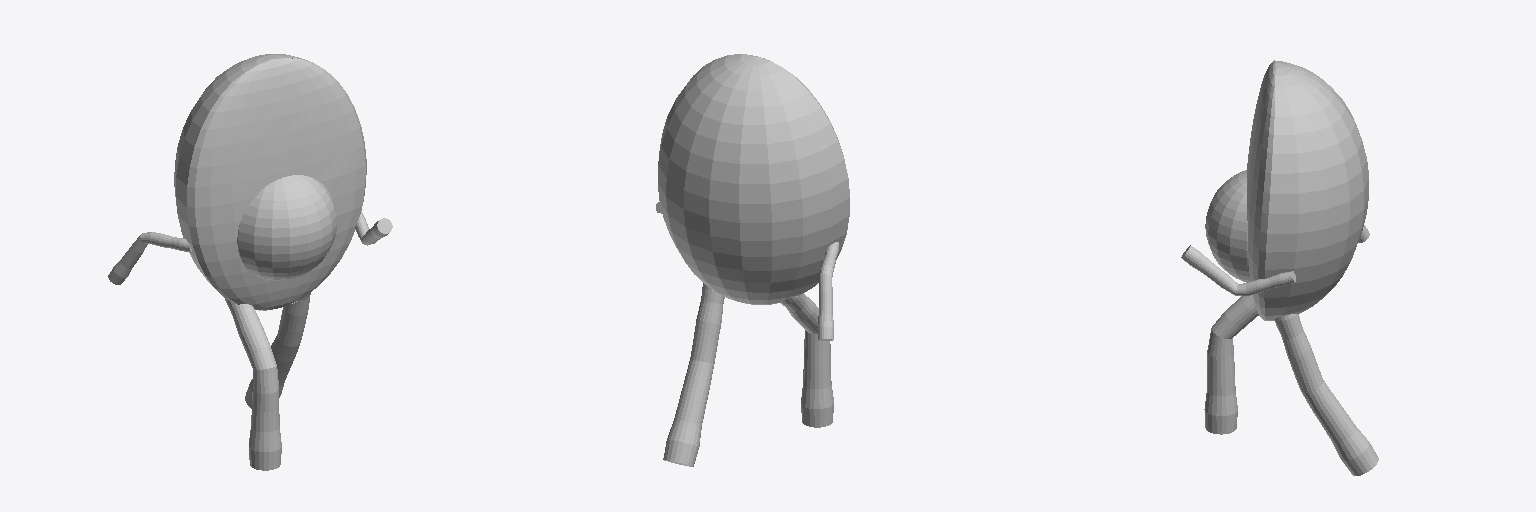
Rendered from Rigged Egg.obj.
The picture shows the model from 3 angles: view 1: azimuth 30°, elevation 25°; view 2: azimuth 150°, elevation 25°; view 3: azimuth 270°, elevation 25°; orthographic projection.
Parts seen in each view (by area): view 1: pSphere4; view 2: pSphere4; view 3: pSphere4.
Part boxes in pixels (x1,y1,x2,y2): pSphere4: (108,54,392,470); pSphere4: (656,54,849,466); pSphere4: (1181,60,1378,475).
Size of the model in its own units: 2.35 by 4.13 by 1.9.